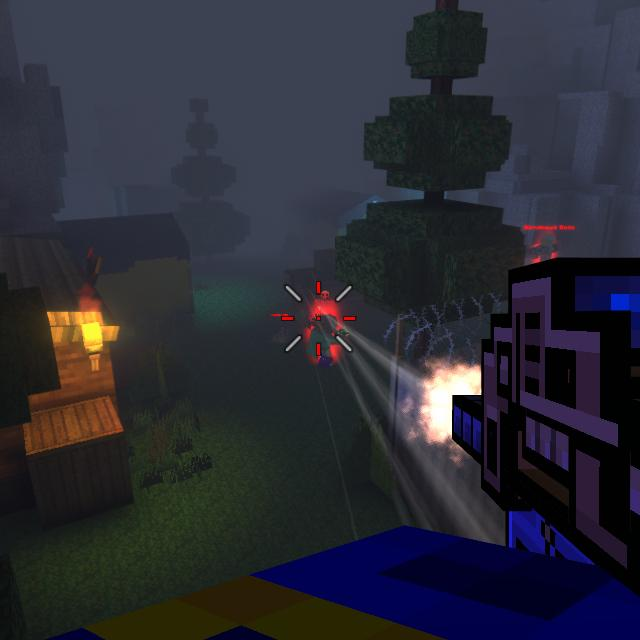Enemy: (313, 313, 344, 365), (532, 234, 558, 260)
